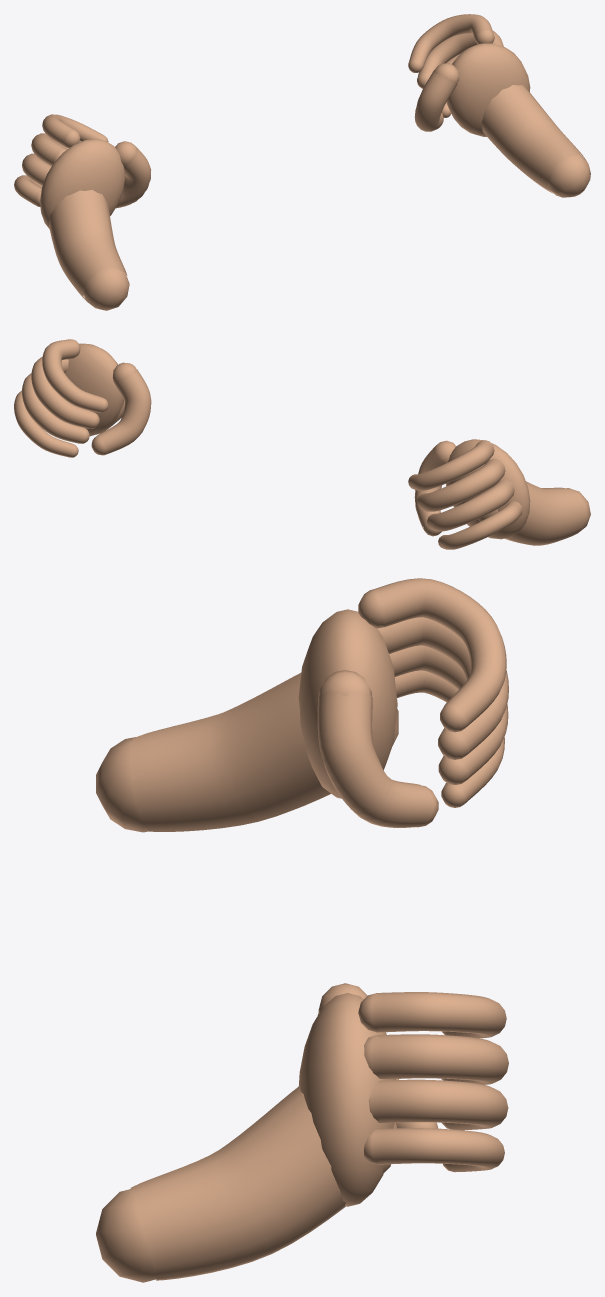
File: hands-on-wheel.glb
3 renders of one model, top to bottom at view 1: azimuth 30°, elevation 25°; view 2: azimuth 150°, elevation 25°; view 3: azimuth 270°, elevation 25°, orthographic. The views are drawn at different scales.
Parts seen in each view (by area): view 1: Right gripping hand, Left gripping hand; view 2: Left gripping hand, Right gripping hand; view 3: Right gripping hand, Left gripping hand.
Boxes of the visible parts, left/top/right/bottom form: Right gripping hand: left=408, top=14, right=590, bottom=197; Left gripping hand: left=14, top=114, right=150, bottom=310; Left gripping hand: left=408, top=439, right=590, bottom=549; Right gripping hand: left=14, top=339, right=151, bottom=457; Right gripping hand: left=96, top=983, right=508, bottom=1282; Left gripping hand: left=96, top=578, right=508, bottom=832.
Size of the model in its own units: 0.4662 by 0.1178 by 0.1657.
